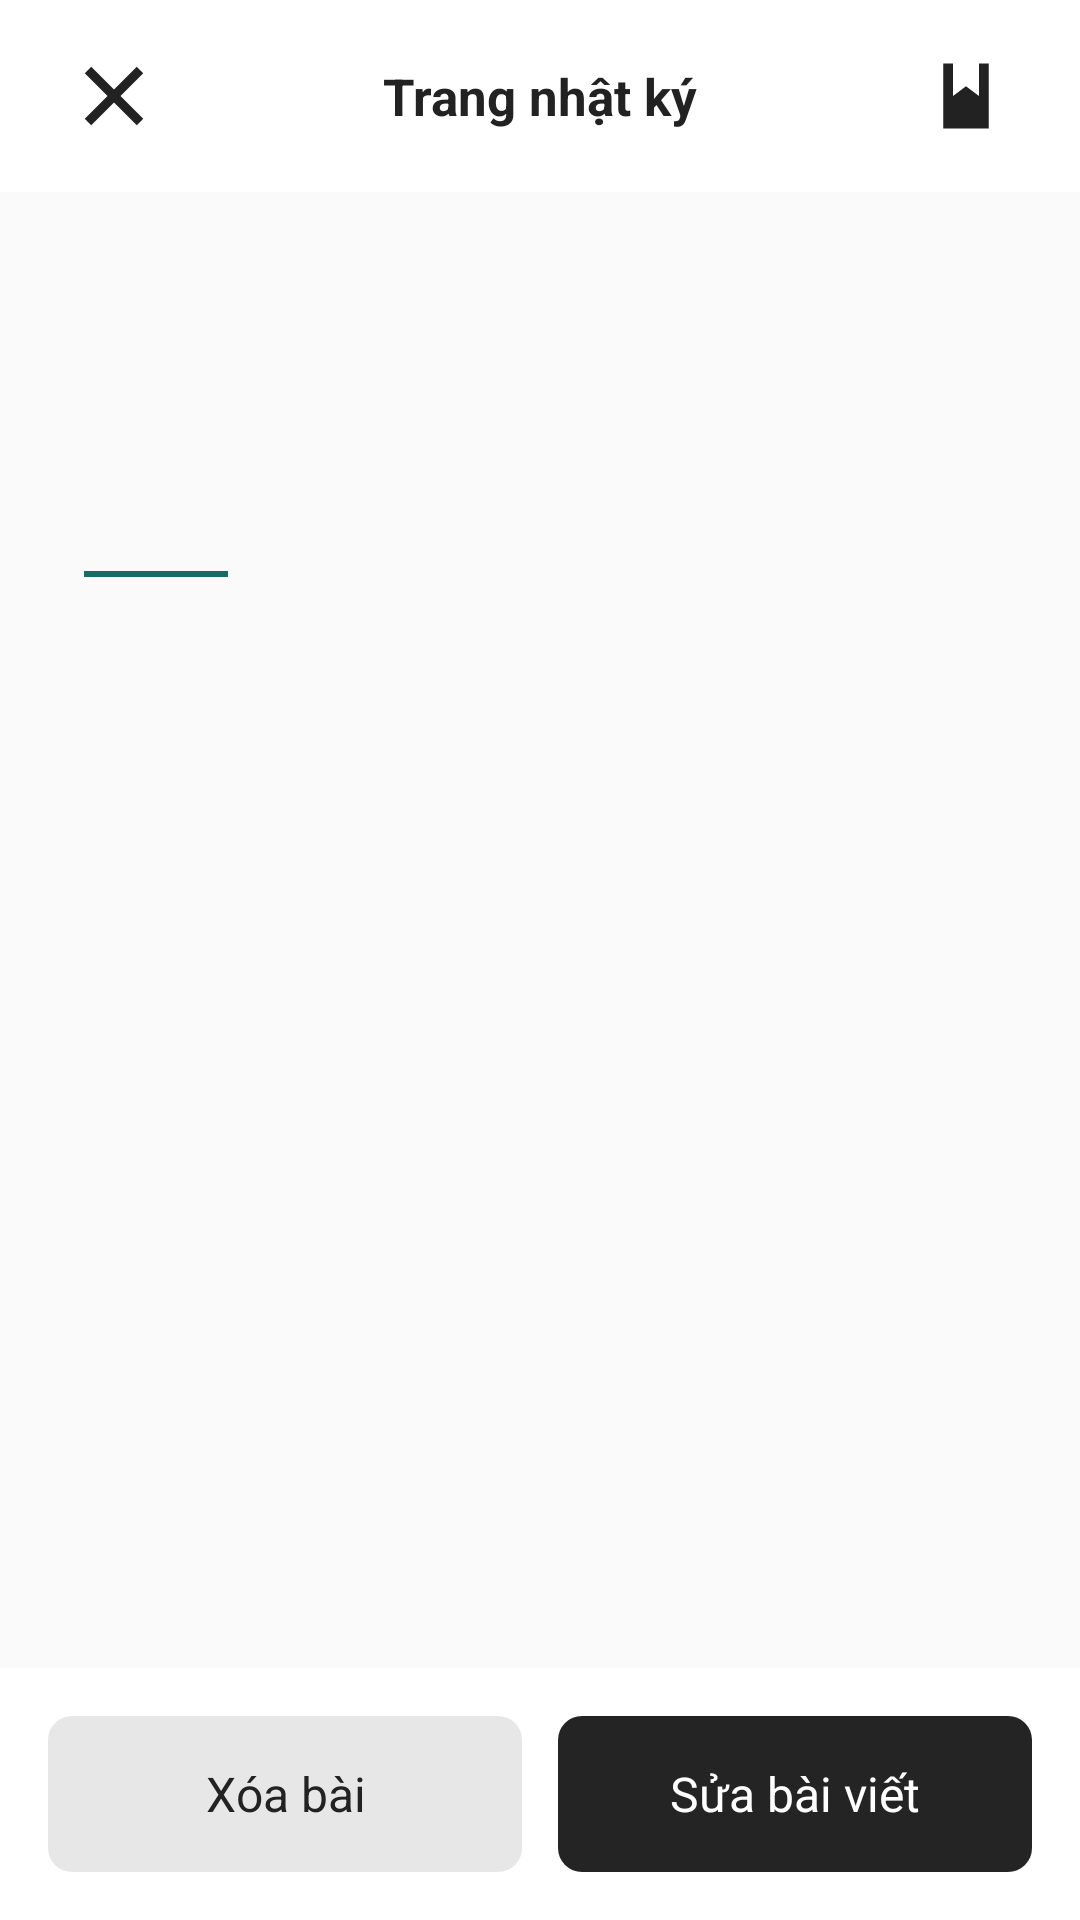

Icons on this 1080×1920 Android screen, each with the point to tap as [x,y]:
Đánh dấu bài nhật ký: [966,96]
